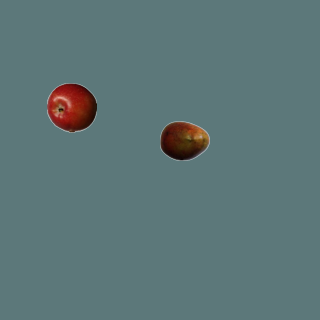Apple Braeburn: (46, 82, 96, 132)
Mango Red: (159, 115, 209, 165)
